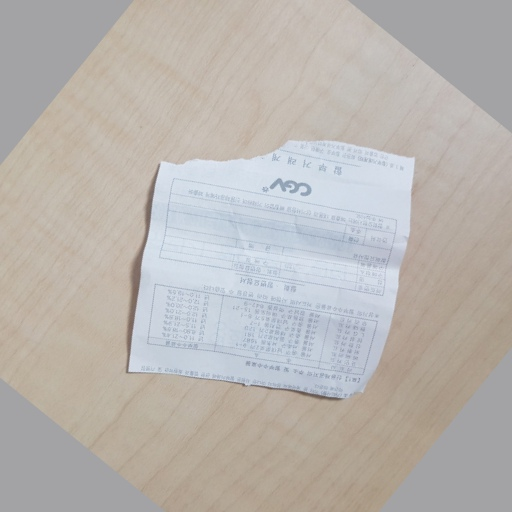Paper_2: (122, 133, 418, 414)
